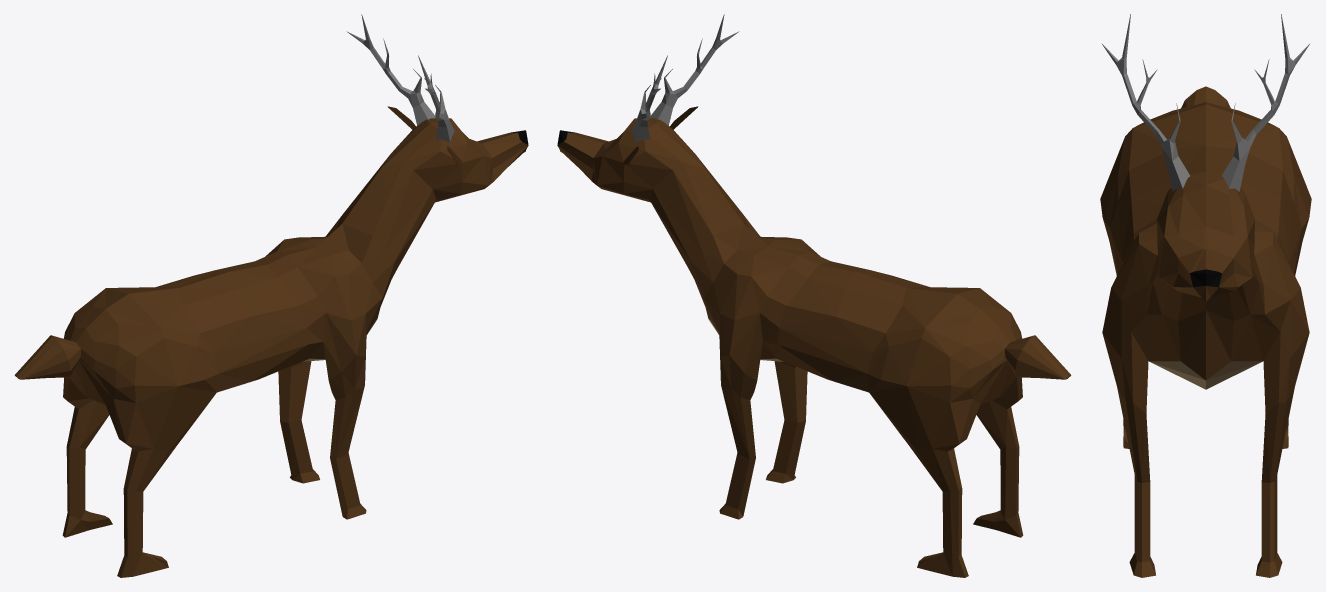
The model's file is Low Poly Deer Textured.fbx.
3 renders of one model, left to right at view 1: azimuth 30°, elevation 25°; view 2: azimuth 150°, elevation 25°; view 3: azimuth 270°, elevation 25°, orthographic. The views are drawn at different scales.
Parts seen in each view (by area): view 1: Cube, Plane.001; view 2: Cube, Plane.001; view 3: Cube, Plane.001.
Part boxes in pixels (box(x1,y1,x2,y2)): Cube: box(14, 118, 528, 577); Plane.001: box(346, 14, 454, 142); Cube: box(557, 118, 1071, 577); Plane.001: box(631, 14, 739, 142); Cube: box(1100, 86, 1311, 577); Plane.001: box(1102, 14, 1309, 191).
Bounding box in the file's own units: 1496 × 1257 × 403.
